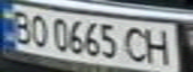0: (48, 15, 69, 53)
5: (96, 20, 121, 61)
6: (81, 19, 103, 58), (66, 18, 87, 56)
B: (6, 7, 36, 45)
C: (121, 24, 151, 64)
H: (142, 25, 178, 66)
O: (24, 11, 51, 47)
